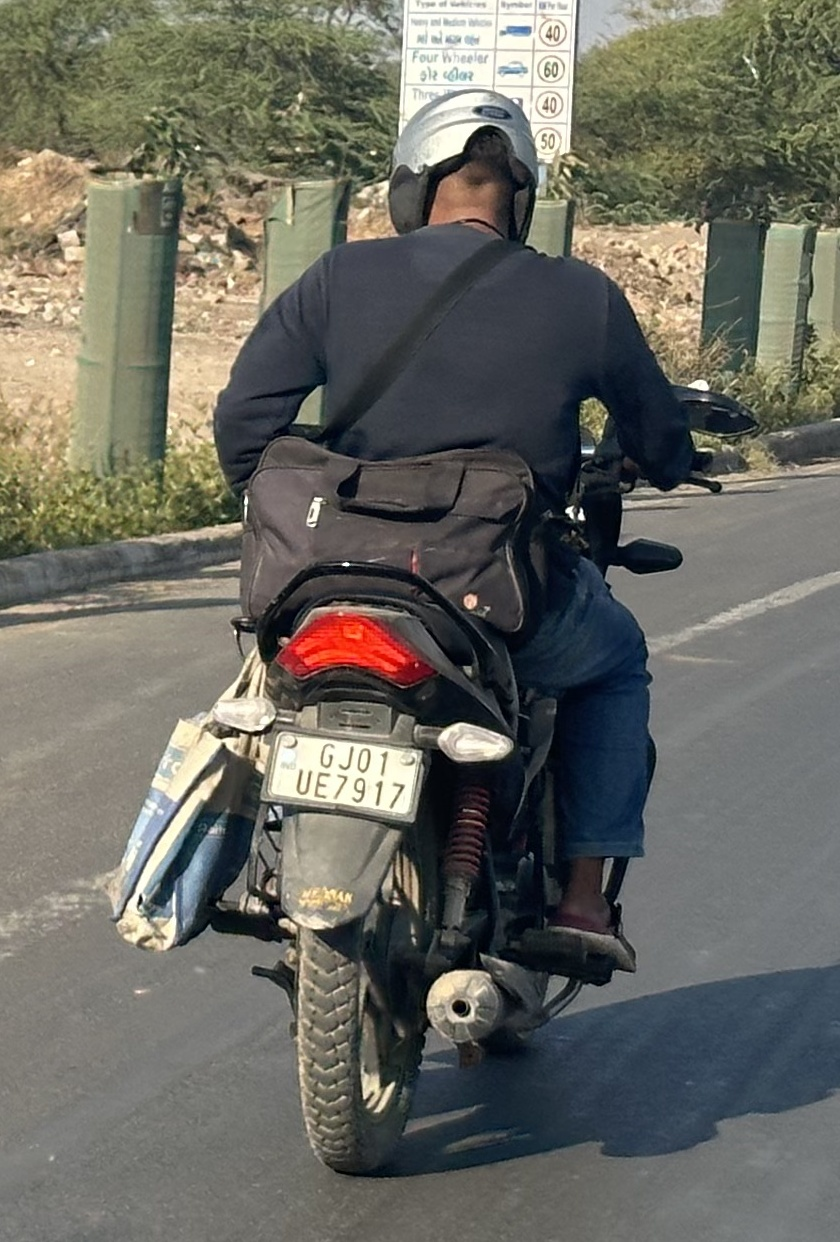BikeWithRider: (83, 68, 768, 1190)
Helmet: (370, 79, 557, 255)
